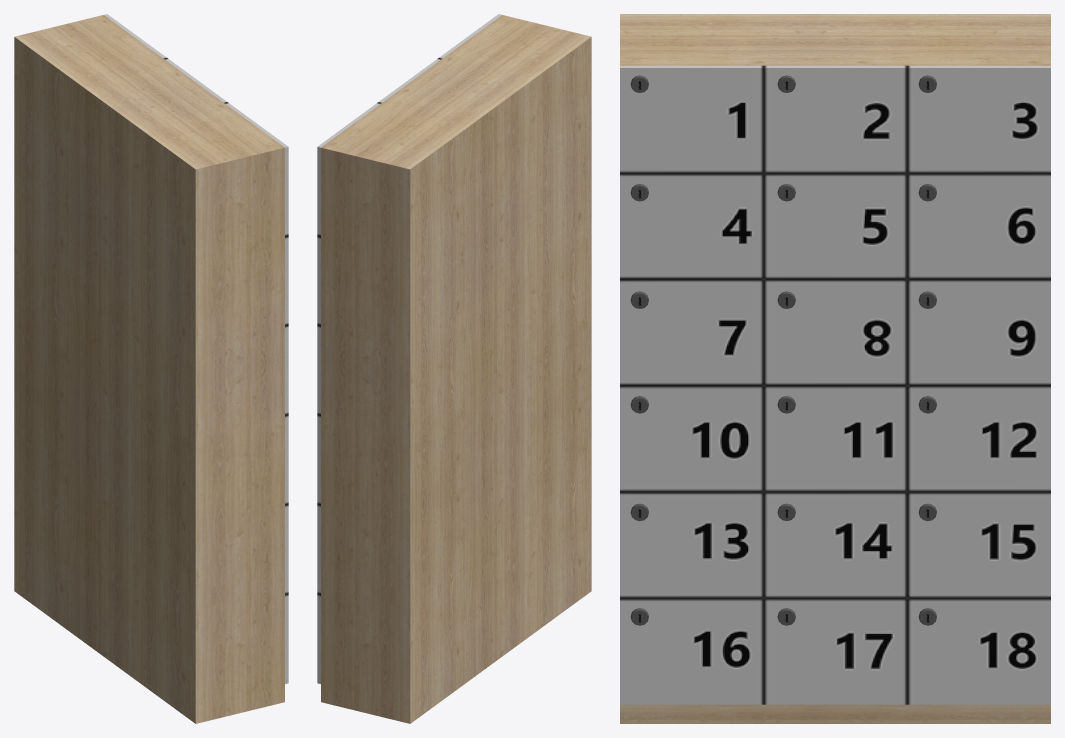
File: cabinet1.FBX
The picture shows the model from 3 angles, left to right: view 1: azimuth 30°, elevation 25°; view 2: azimuth 150°, elevation 25°; view 3: azimuth 270°, elevation 25°; orthographic projection. The views are drawn at different scales.
Parts seen in each view (by area): view 1: cabinet1; view 2: cabinet1; view 3: cabinet1.
Boxes of the visible parts, box(x1,y1,x2,y2) form: cabinet1: box(14, 14, 288, 723); cabinet1: box(317, 14, 591, 723); cabinet1: box(620, 14, 1050, 723).
Size of the model in its own units: 12.58 by 41.34 by 69.7.
1 material, 1 textured.
